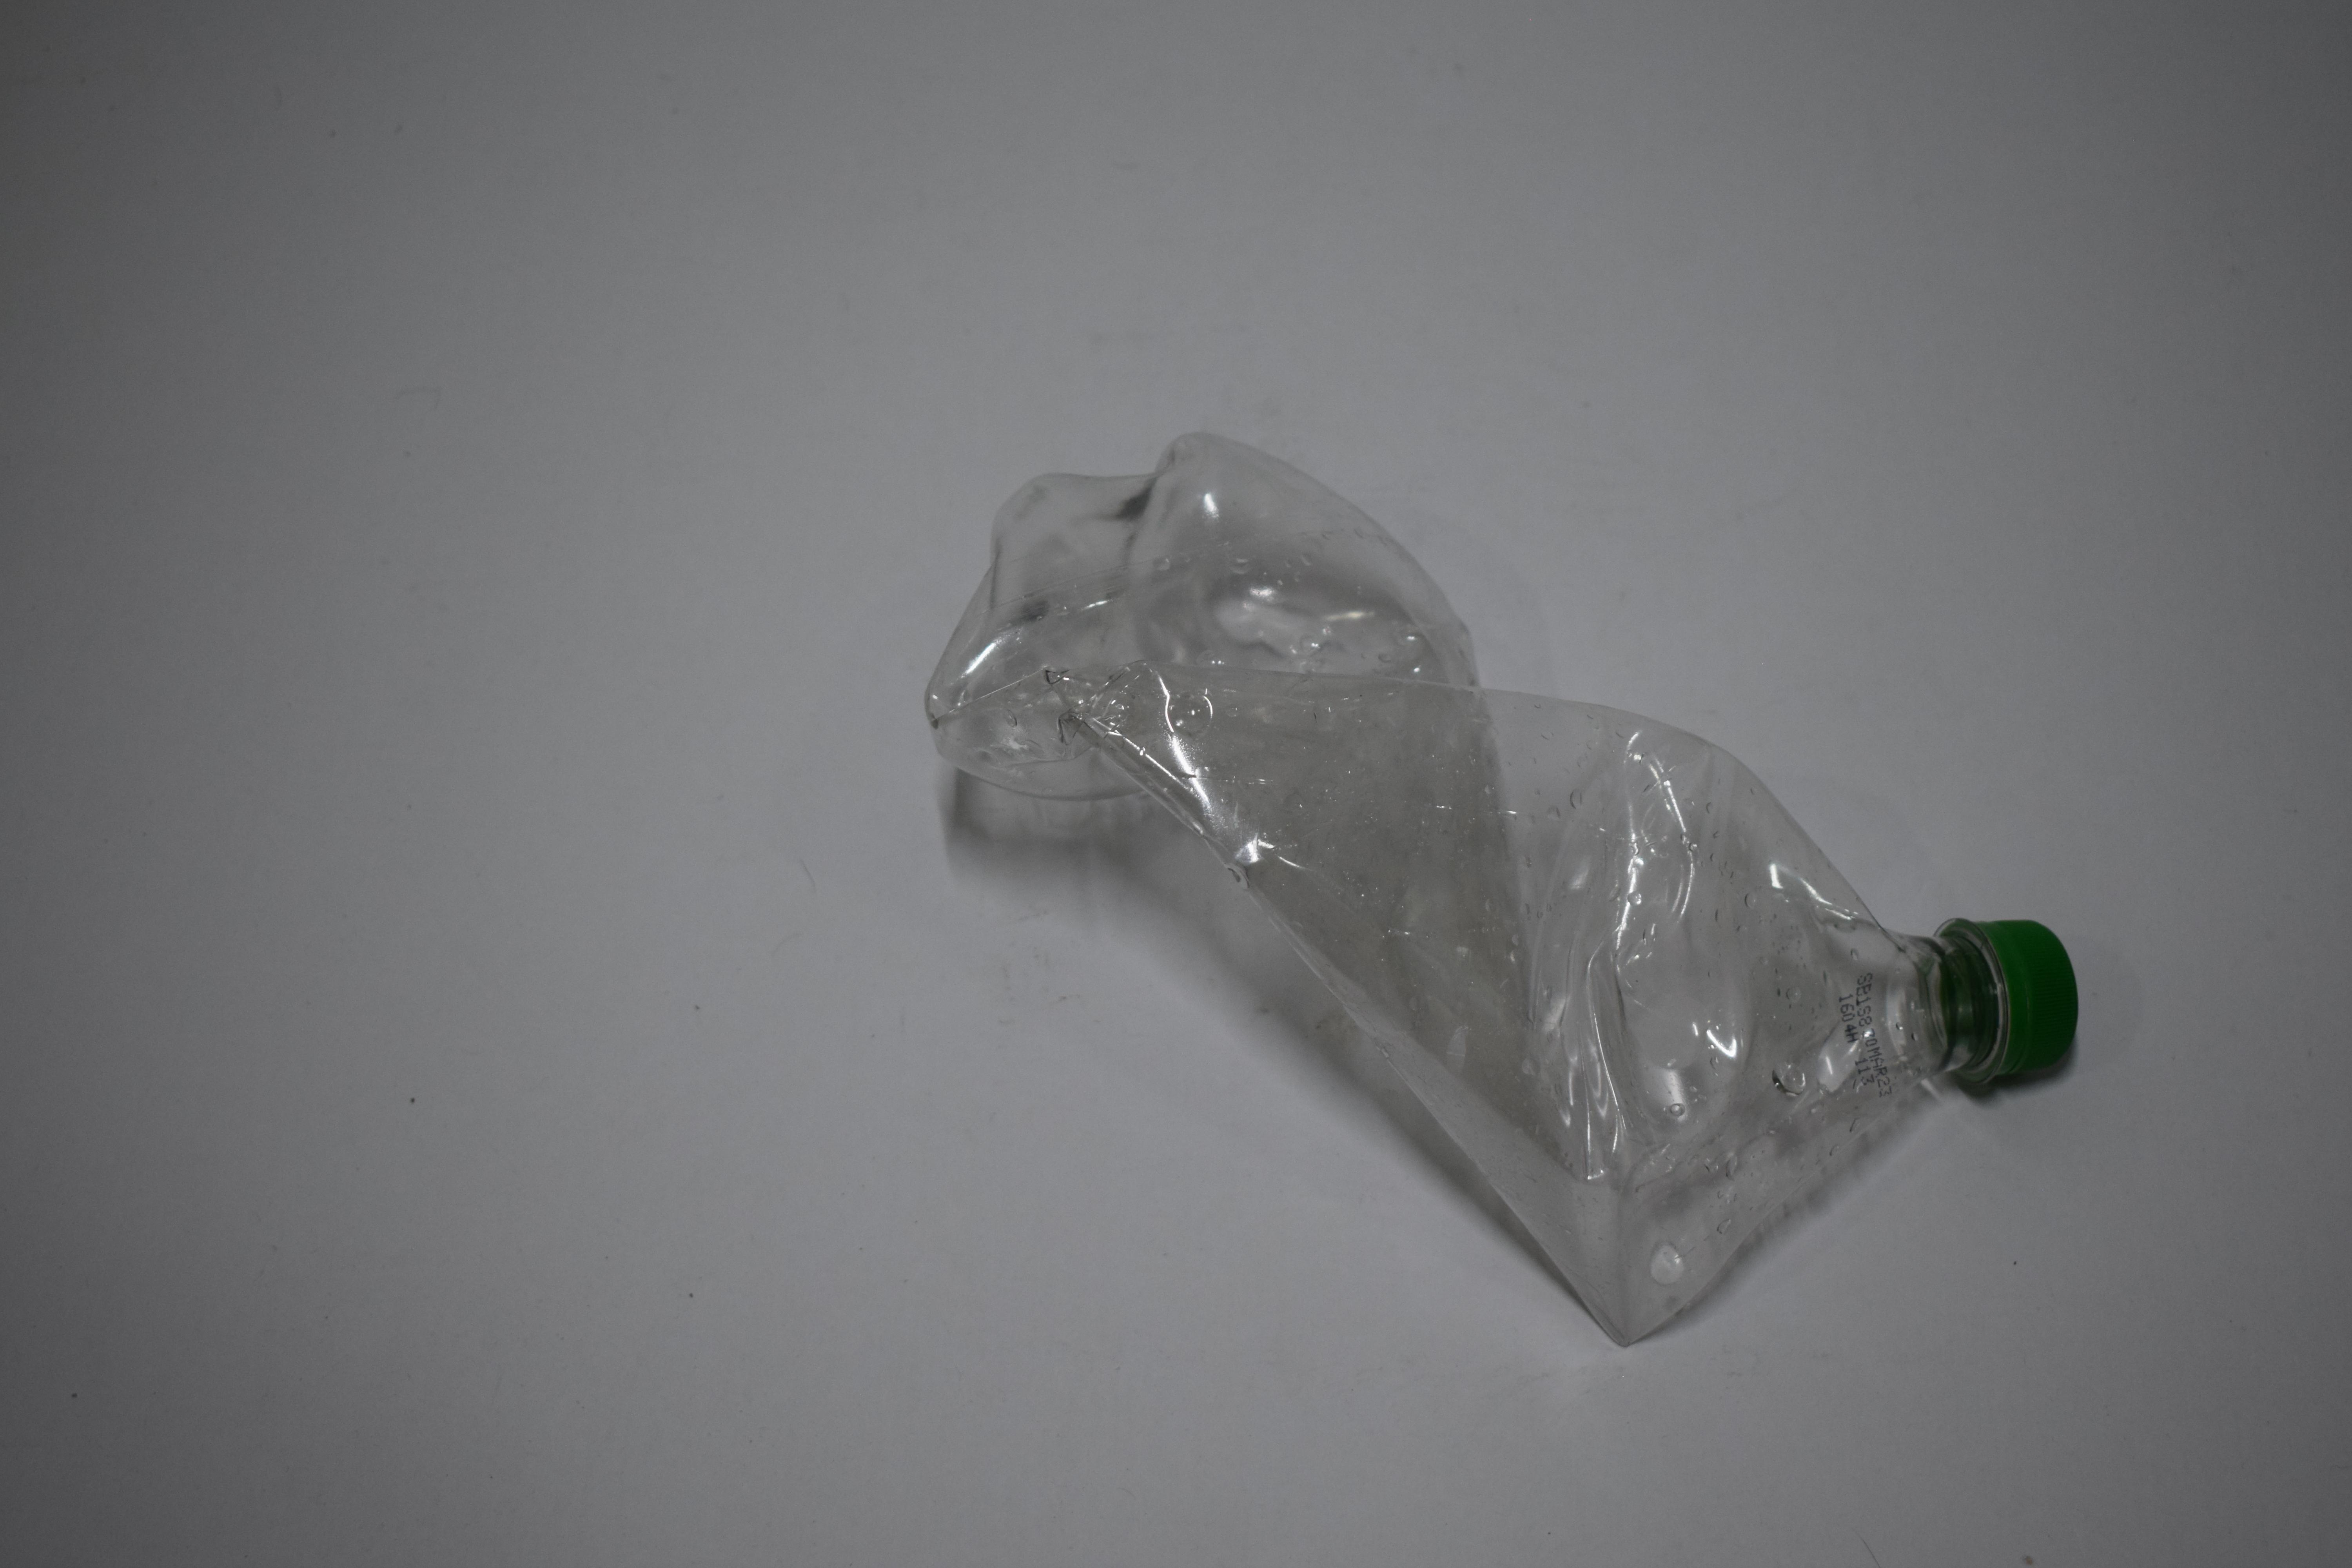bottle: (927, 35, 2079, 175)
